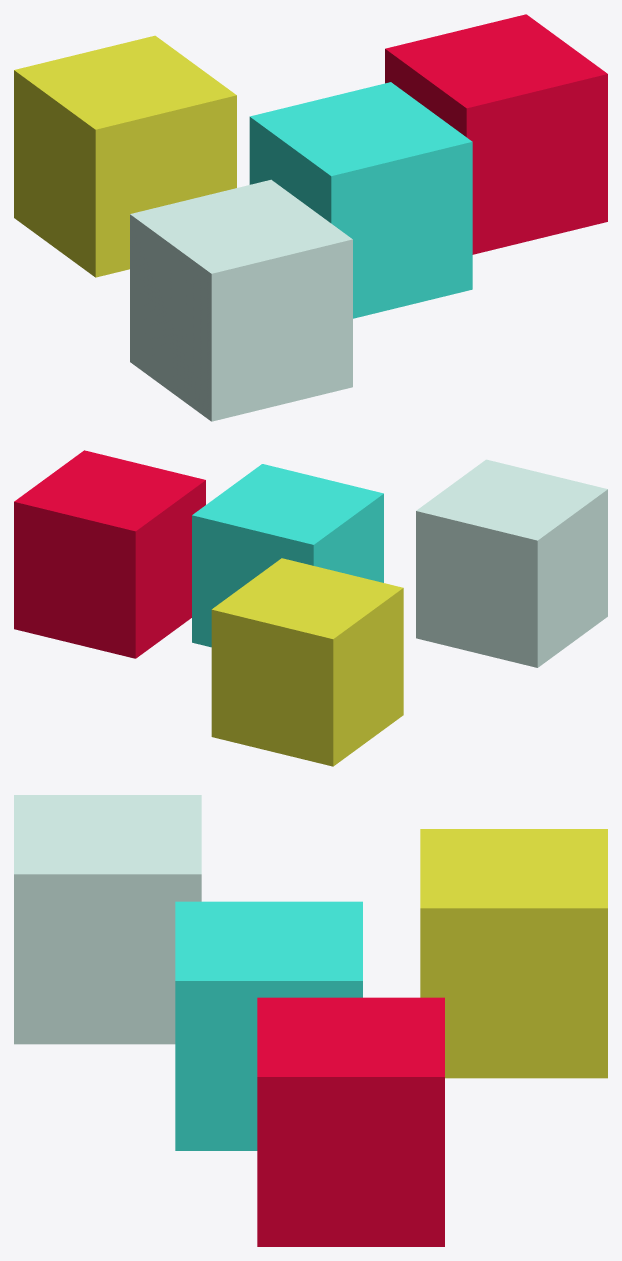
File: colour-box.gltf
The picture shows the model from 3 angles, top to bottom: view 1: azimuth 30°, elevation 25°; view 2: azimuth 150°, elevation 25°; view 3: azimuth 270°, elevation 25°; orthographic projection. The views are drawn at different scales.
Parts seen in each view (by area): view 1: Box (×4); view 2: Box (×4); view 3: Box (×4).
Boxes of the visible parts, x1=… form: Box (×4): x1=14, y1=14, x2=607, y2=421; Box (×4): x1=14, y1=450, x2=607, y2=766; Box (×4): x1=14, y1=795, x2=607, y2=1246.
Bounding box in the file's own units: 3.55 × 1 × 3.16.
